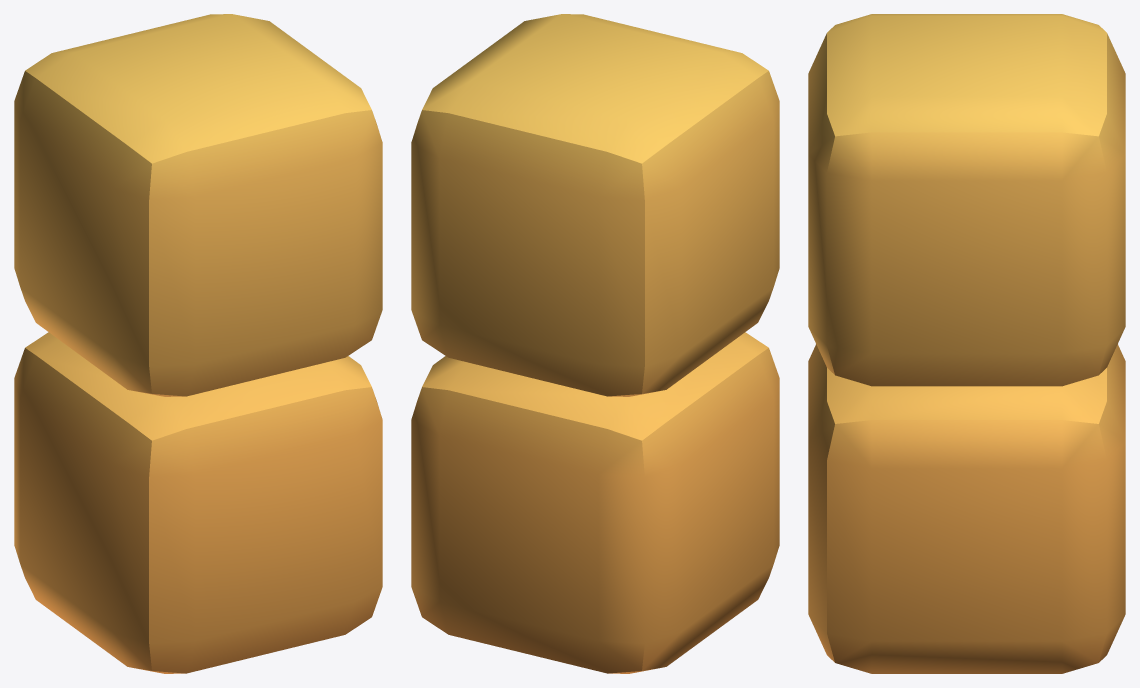
Rendered from barrier_1x1x2_yellow.glb.
3 renders of one model, left to right at view 1: azimuth 30°, elevation 25°; view 2: azimuth 150°, elevation 25°; view 3: azimuth 270°, elevation 25°, orthographic. The views are drawn at different scales.
Parts seen in each view (by area): view 1: barrier_1x1x2_yellow; view 2: barrier_1x1x2_yellow; view 3: barrier_1x1x2_yellow.
Boxes of the visible parts, x1=… form: barrier_1x1x2_yellow: x1=14, y1=14, x2=382, y2=673; barrier_1x1x2_yellow: x1=411, y1=14, x2=779, y2=673; barrier_1x1x2_yellow: x1=808, y1=14, x2=1125, y2=673.
Bounding box in the file's own units: 1 × 2 × 1.
Materials: 1 (1 with a texture image).
